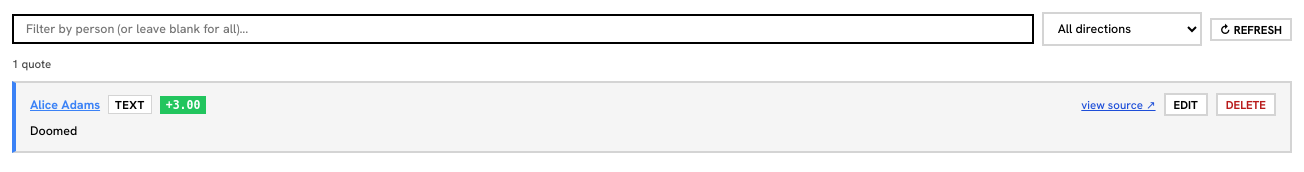
QuotesListView — delete flow › DELETE /api/admin/quotes/:id?reason=... is issued and list refreshes
This screenshot has width=1304, height=172.
Expected: the text "Doomed" is shown, [30,123,77,139]
Click the button "Delete" at x=1246, y=104, box [1216,93,1276,116]
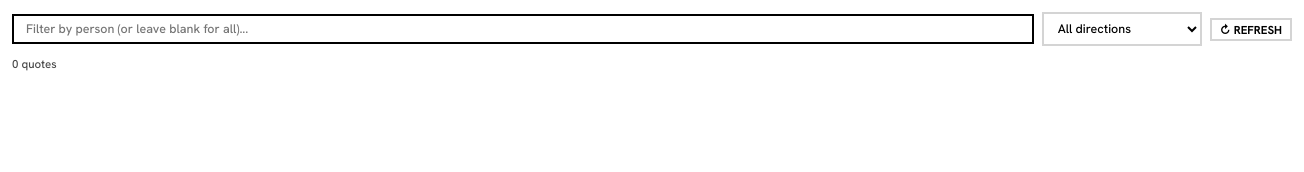
Expected: the text "Doomed" is gone
